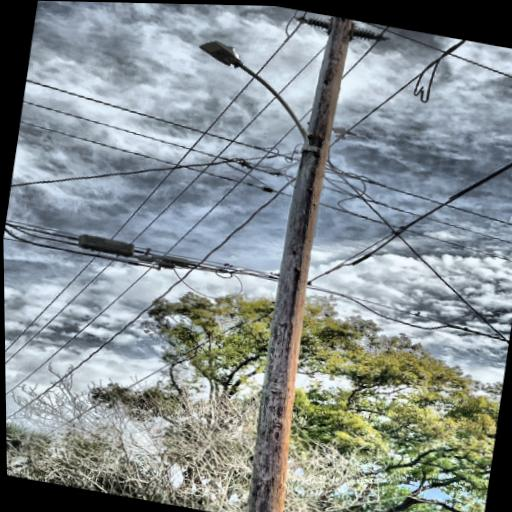pole: (224, 9, 381, 512)
street light: (180, 34, 330, 156)
